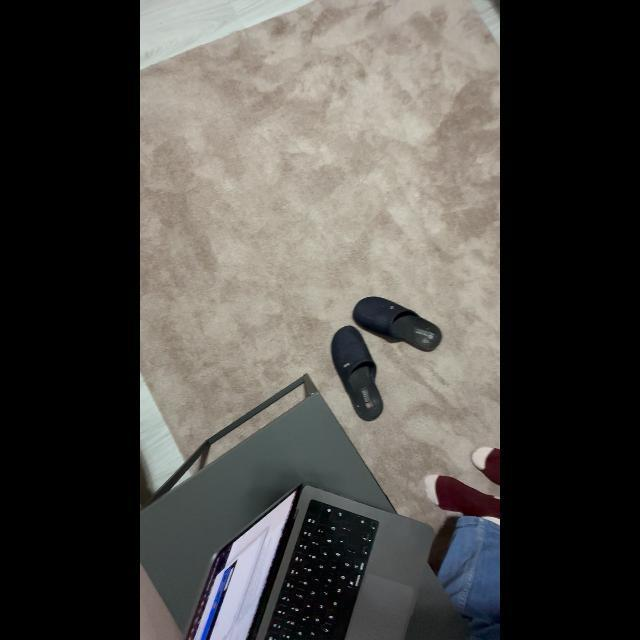slipper: (346, 286, 448, 358), (323, 325, 391, 429)
